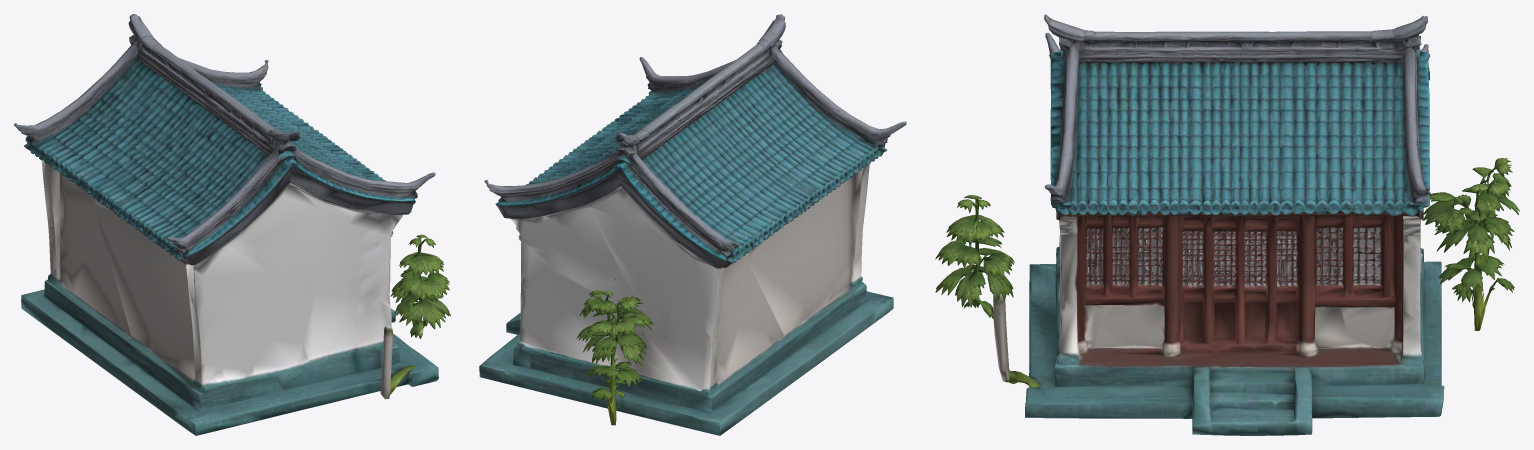
The model's file is xiaoxiang.glb.
3 views of the same model, side by side, from view 1: azimuth 30°, elevation 25°; view 2: azimuth 150°, elevation 25°; view 3: azimuth 270°, elevation 25° (orthographic). The views are drawn at different scales.
Parts seen in each view (by area): view 1: tripo_node_e0e5b257-5f44-4b06-9277-7635ab18d85a; view 2: tripo_node_e0e5b257-5f44-4b06-9277-7635ab18d85a; view 3: tripo_node_e0e5b257-5f44-4b06-9277-7635ab18d85a.
Boxes of the visible parts, left/top/right/bottom form: tripo_node_e0e5b257-5f44-4b06-9277-7635ab18d85a: left=14, top=14, right=450, bottom=435; tripo_node_e0e5b257-5f44-4b06-9277-7635ab18d85a: left=479, top=14, right=906, bottom=435; tripo_node_e0e5b257-5f44-4b06-9277-7635ab18d85a: left=935, top=14, right=1519, bottom=435.
Size of the model in its own units: 0.6654 by 0.6064 by 0.9804.
Materials: 1 (1 with a texture image).
